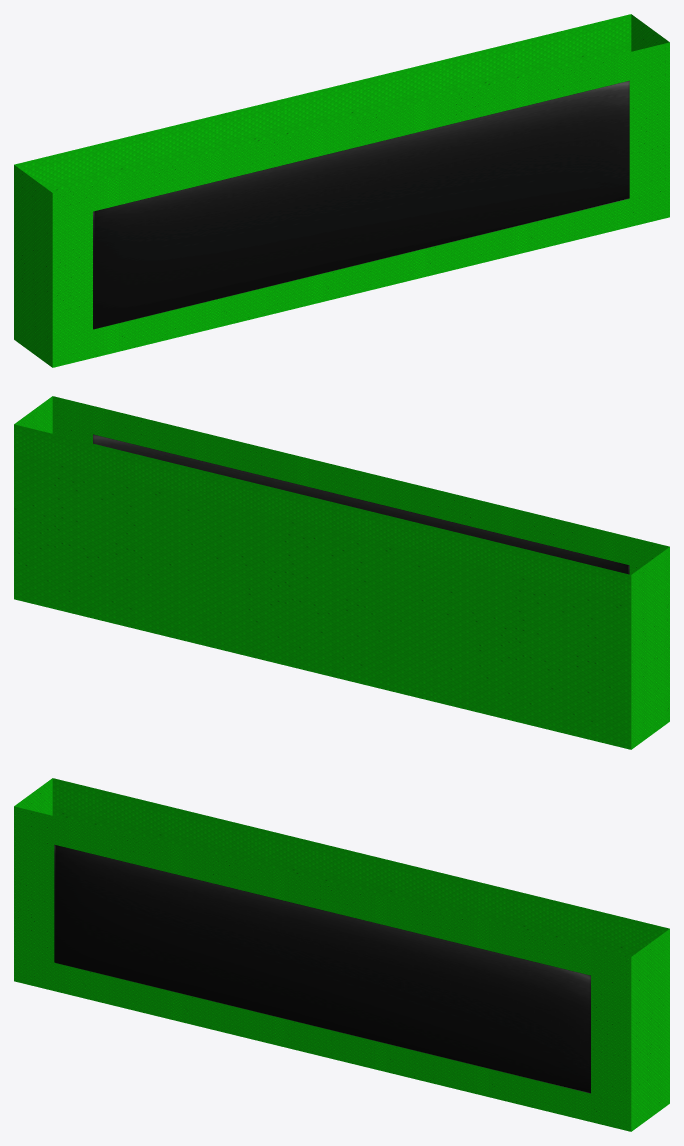
The model's file is TipScreen.obj.
3 renders of one model, top to bottom at view 1: azimuth 30°, elevation 25°; view 2: azimuth 150°, elevation 25°; view 3: azimuth 330°, elevation 25°, orthographic.
Visible parts, largest first — view 1: Tv; view 2: Tv; view 3: Tv.
Part boxes in pixels (<box>): Tv: <box>14,14,669,367</box>; Tv: <box>14,396,669,749</box>; Tv: <box>14,778,669,1131</box>.
Size of the model in its own units: 4.76 by 1.29 by 0.5171.
Materials: 2 (2 with a texture image).
